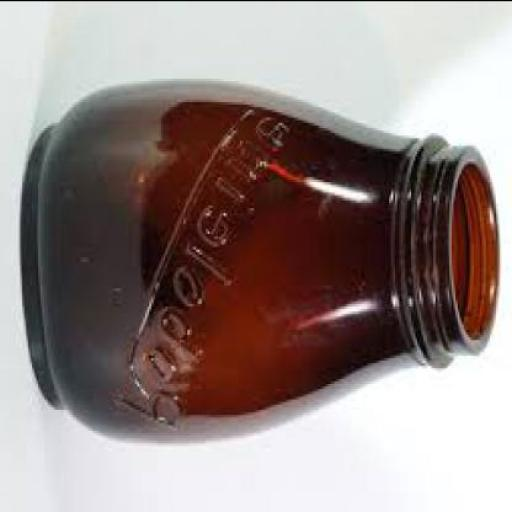glass: (22, 81, 502, 445)
